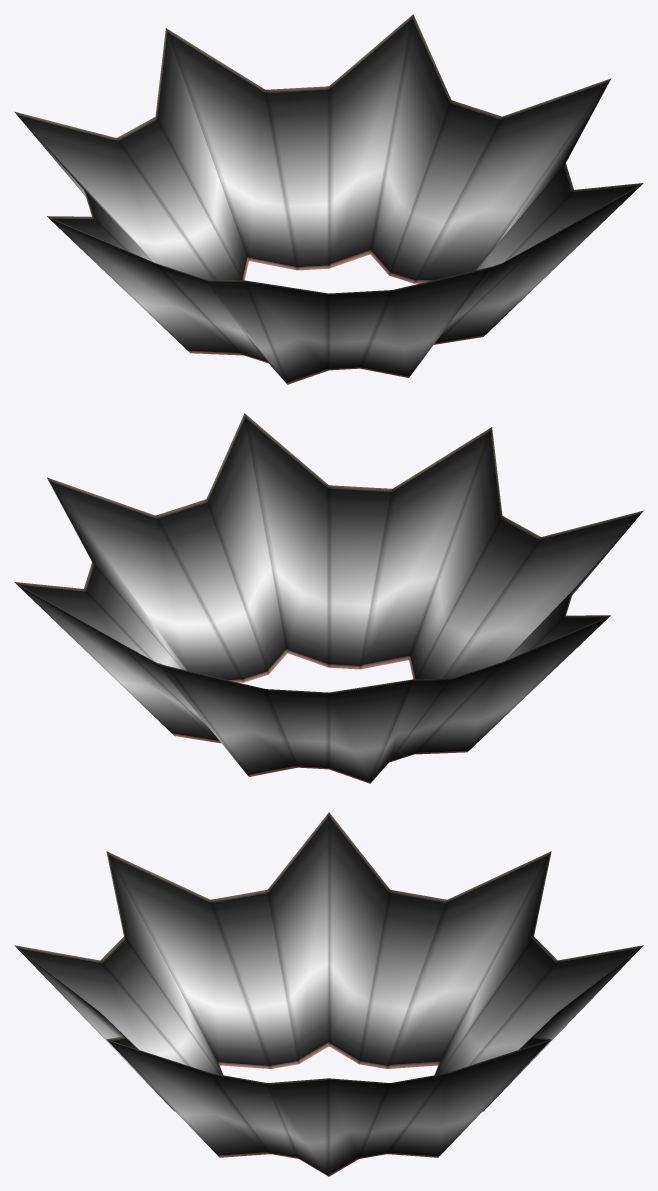
3 views of the same model, one above another, from view 1: azimuth 30°, elevation 25°; view 2: azimuth 150°, elevation 25°; view 3: azimuth 270°, elevation 25° (orthographic). The views are drawn at different scales.
Parts seen in each view (by area): view 1: T1L4M008_6; view 2: T1L4M008_6; view 3: T1L4M008_6.
Part boxes in pixels (bbox=[...]): T1L4M008_6: bbox=[14, 14, 643, 384]; T1L4M008_6: bbox=[14, 413, 643, 783]; T1L4M008_6: bbox=[14, 812, 643, 1176].
Size of the model in its own units: 4.56 by 1.33 by 4.56.
